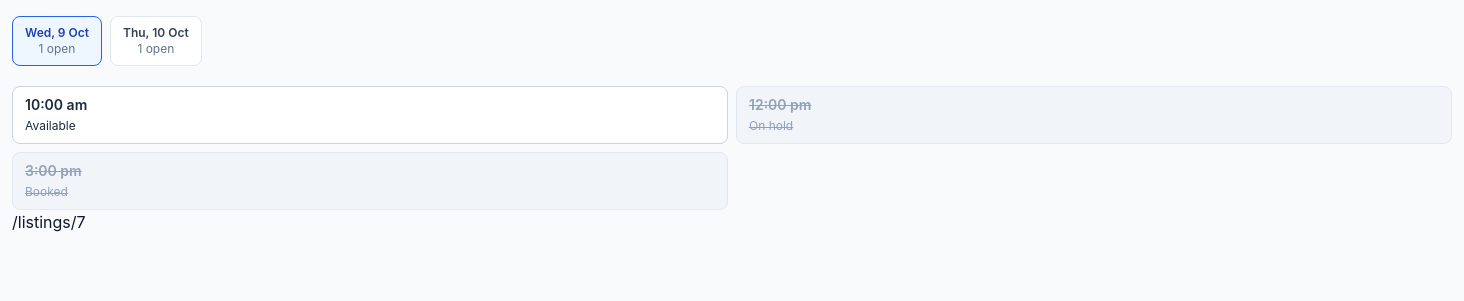
Test: <SlotPicker> › explains when another buyer got the slot first
This screenshot has width=1464, height=301.
Click the button with aria-label "10:00 am, available".
click(56, 104)  # box [12,86,728,144]
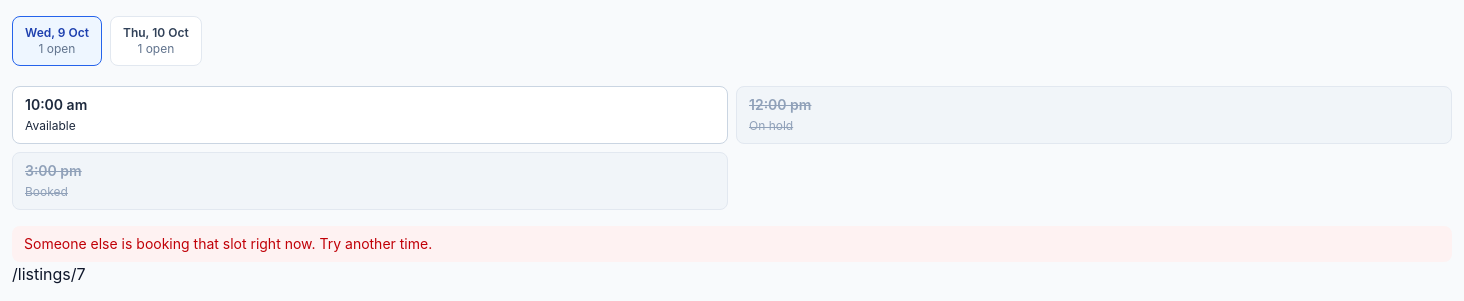
Expected: the message shows "Someone else is booking that slot right now", [24,235,432,252]
